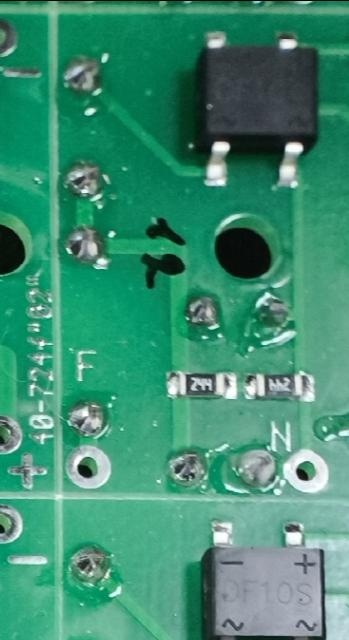chip-resistor: (164, 368, 240, 401), (243, 371, 318, 404)
ic: (193, 27, 321, 192), (198, 515, 328, 640)
